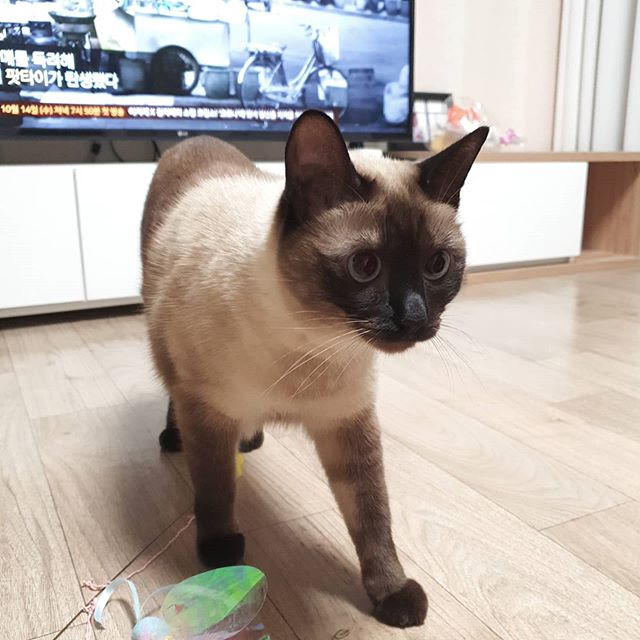cat: (279, 104, 489, 356)
